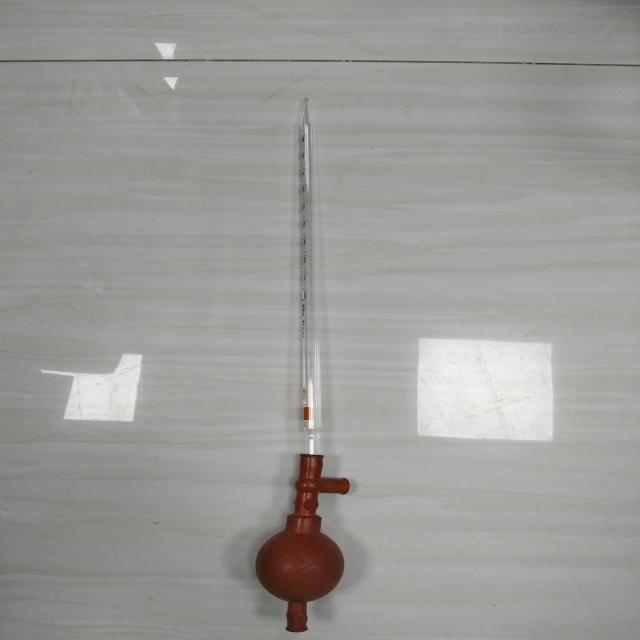Volumetric_Pipet: (228, 76, 366, 640)
